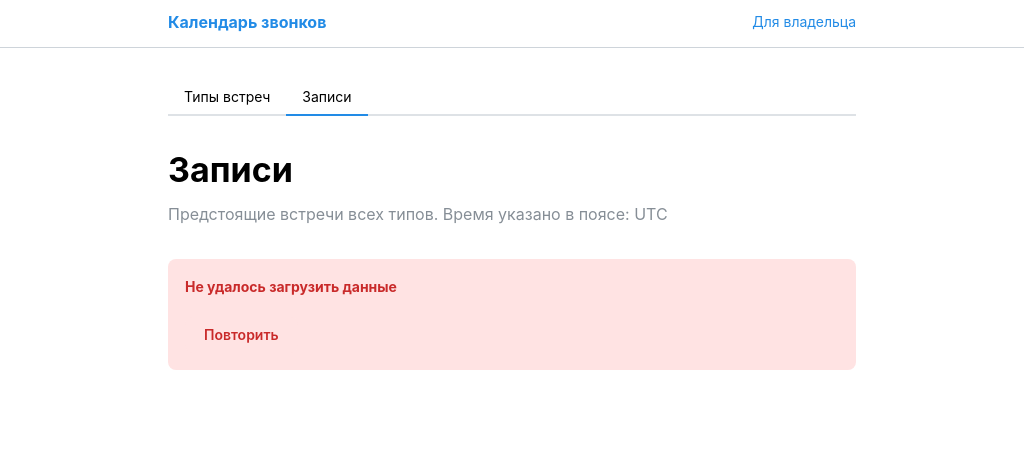
Test: при ошибке загрузки записей предлагает повторить
Expected: the text "Не удалось загрузить данные" is shown, [185,276,397,298]
Click the button "Повторить": (241,336) [185,318,298,354]
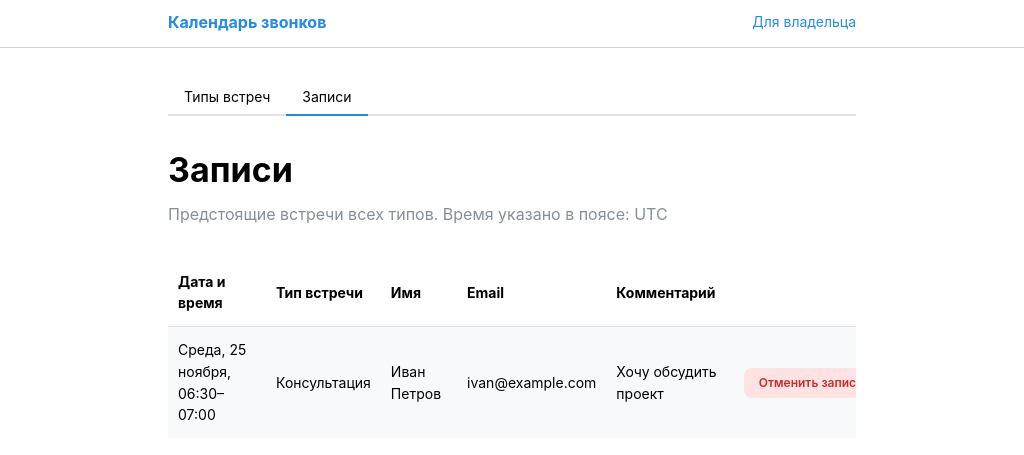
Expected: the cell "Иван Петров" is shown, [381,327,457,438]
